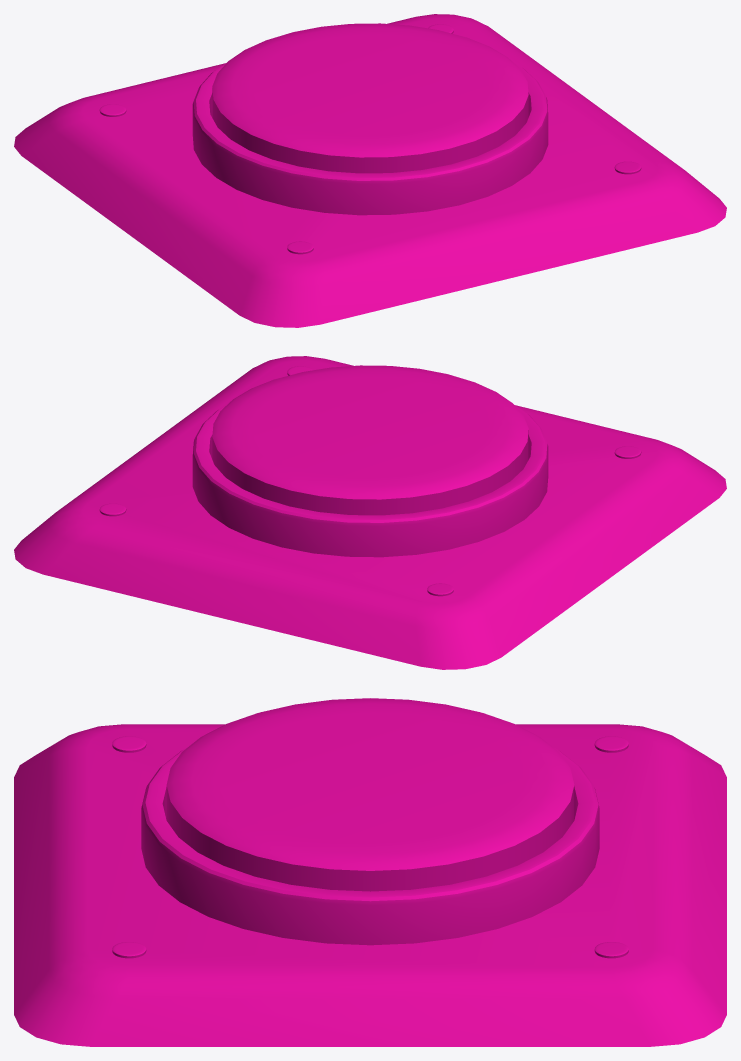
File: Button Station.fbx
3 renders of one model, top to bottom at view 1: azimuth 30°, elevation 25°; view 2: azimuth 150°, elevation 25°; view 3: azimuth 270°, elevation 25°, orthographic. The views are drawn at different scales.
Parts seen in each view (by area): view 1: Base, Button, Chamber, Bolts; view 2: Base, Button, Chamber, Bolts; view 3: Base, Button, Chamber, Bolts.
Part boxes in pixels (x1,y1,x2,y2): Base: (14, 14, 726, 327); Button: (212, 23, 528, 173); Chamber: (192, 62, 548, 215); Bolts: (99, 24, 641, 254); Base: (14, 356, 726, 669); Button: (212, 365, 528, 515); Chamber: (192, 404, 548, 557); Bolts: (99, 366, 641, 596); Base: (14, 724, 726, 1046); Button: (166, 698, 574, 891); Chamber: (141, 747, 599, 945); Bolts: (112, 736, 628, 958).
Size of the model in its own units: 233 by 42.53 by 233.
